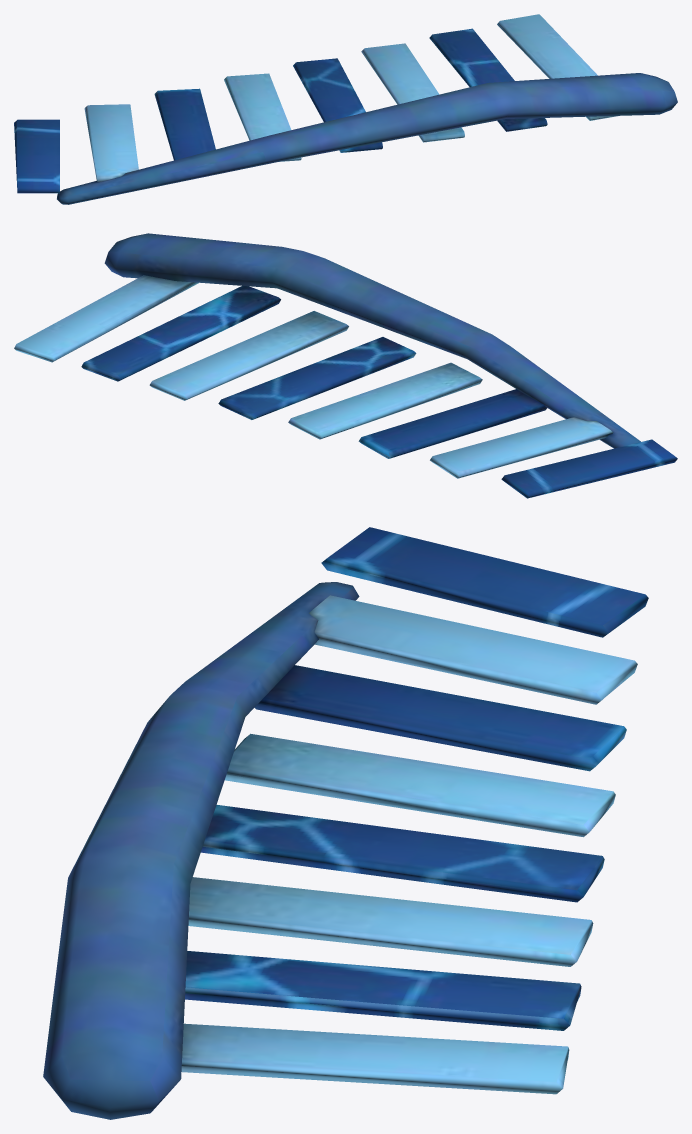
File: u_harrierwingR_f_g.glb
3 renders of one model, top to bottom at view 1: azimuth 30°, elevation 25°; view 2: azimuth 150°, elevation 25°; view 3: azimuth 270°, elevation 25°, orthographic. The views are drawn at different scales.
Parts seen in each view (by area): view 1: u_harrierwingR_f; view 2: u_harrierwingR_f; view 3: u_harrierwingR_f.
Boxes of the visible parts, box(x1,y1,x2,y2) form: u_harrierwingR_f: box(14, 14, 677, 204); u_harrierwingR_f: box(14, 233, 677, 498); u_harrierwingR_f: box(43, 527, 648, 1119).
Bounding box in the file's own units: 1.52 × 0.1476 × 0.6752.
1 material, 1 textured.
